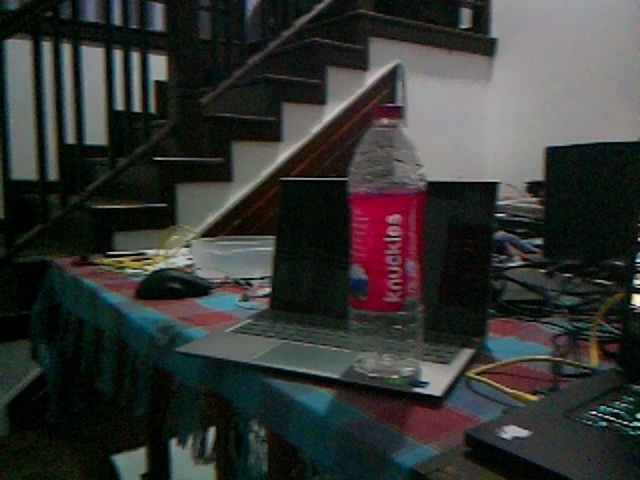bottle: (344, 101, 429, 382)
